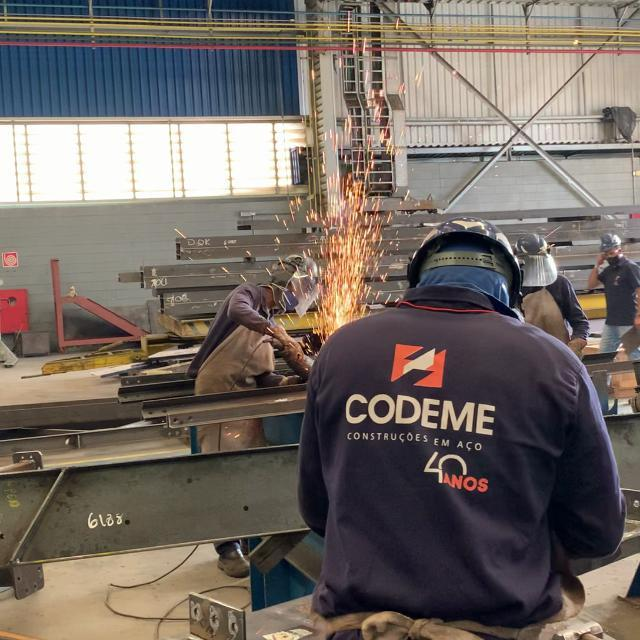face-shield: (282, 269, 320, 316)
glove: (267, 323, 306, 367)
helmet: (407, 216, 523, 311), (281, 253, 320, 287)
person: (297, 215, 627, 638), (299, 217, 624, 630), (185, 253, 321, 384)
safety-shoe: (217, 549, 254, 579)
